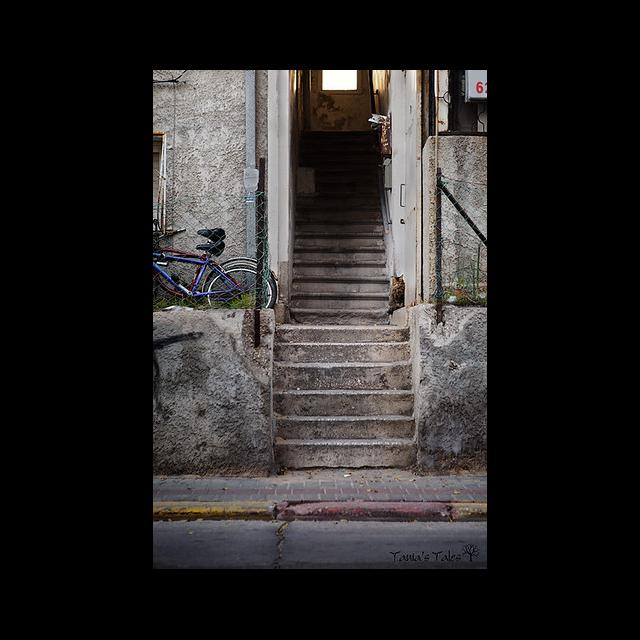animals: (390, 274, 407, 310)
